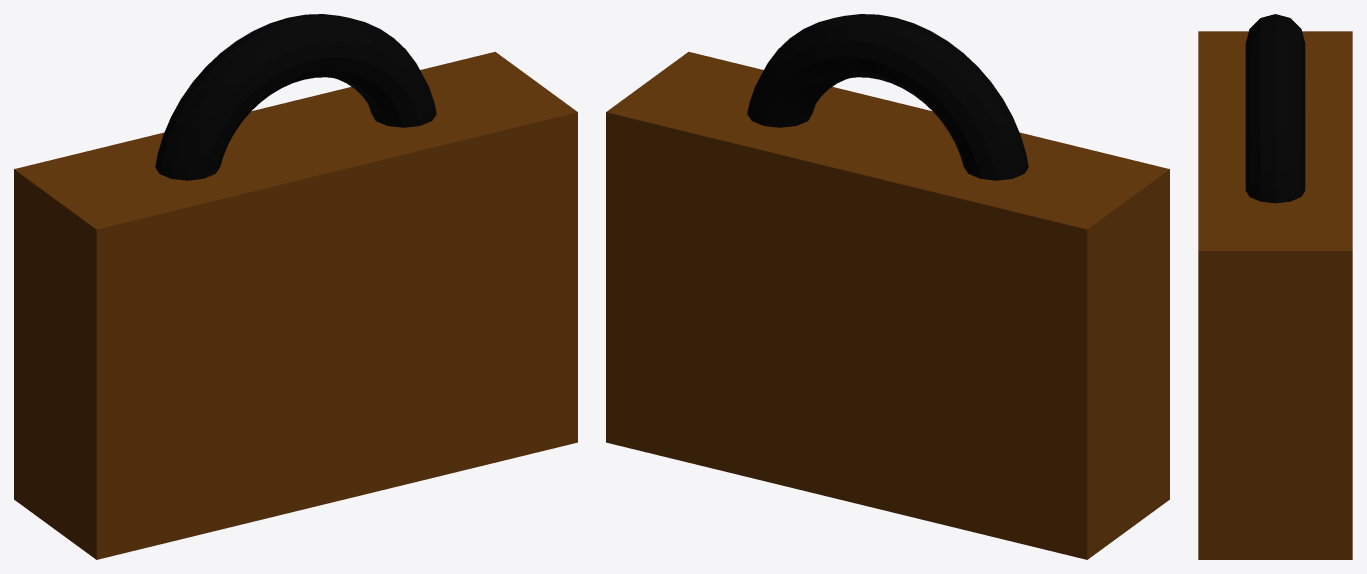
Rendered from suitcase.glb.
3 renders of one model, left to right at view 1: azimuth 30°, elevation 25°; view 2: azimuth 150°, elevation 25°; view 3: azimuth 270°, elevation 25°, orthographic. The views are drawn at different scales.
Parts seen in each view (by area): view 1: Cube, Torus; view 2: Cube, Torus; view 3: Cube, Torus.
Part boxes in pixels (bbox=[...]): Cube: bbox=[14, 51, 577, 559]; Torus: bbox=[155, 14, 436, 180]; Cube: bbox=[606, 51, 1169, 559]; Torus: bbox=[747, 14, 1028, 180]; Cube: bbox=[1198, 31, 1352, 559]; Torus: bbox=[1245, 14, 1305, 203].
Bounding box in the file's own units: 0.4538 × 0.4066 × 0.1349.
